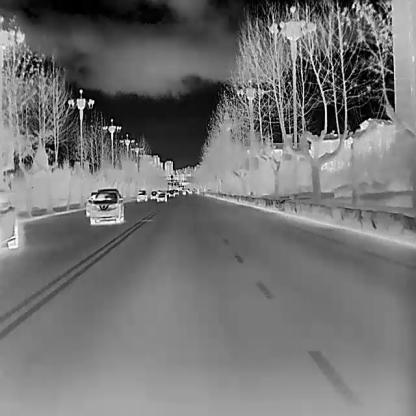car: (88, 187, 123, 224), (0, 190, 18, 252), (136, 190, 147, 202), (156, 192, 166, 200), (150, 190, 157, 199), (168, 190, 174, 198)
